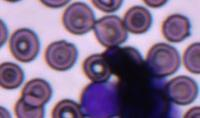D: (80, 81, 119, 117)
